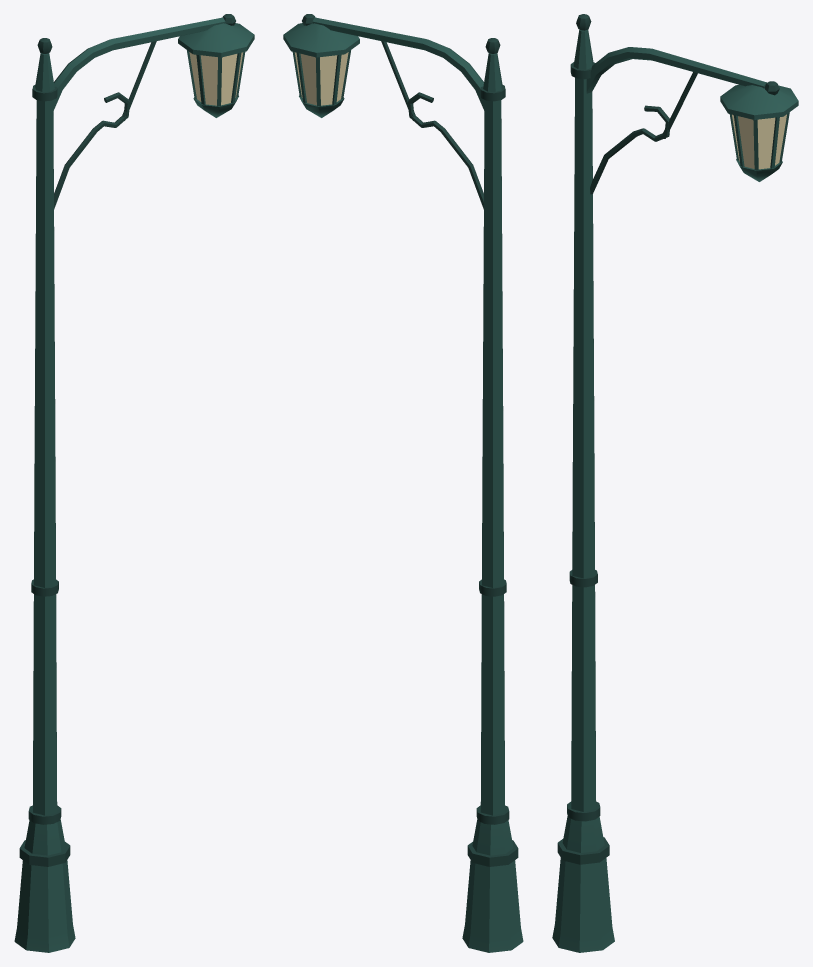
Rendered from street_lamp.glb.
The picture shows the model from 3 angles, left to right: view 1: azimuth 30°, elevation 25°; view 2: azimuth 150°, elevation 25°; view 3: azimuth 330°, elevation 25°; orthographic projection. The views are drawn at different scales.
Parts seen in each view (by area): view 1: lamp; view 2: lamp; view 3: lamp.
Part boxes in pixels (x1,y1,x2,y2): lamp: [14, 14, 254, 952]; lamp: [283, 14, 523, 952]; lamp: [552, 14, 798, 952].
Size of the model in its own units: 2.04 by 7.75 by 0.5543.
